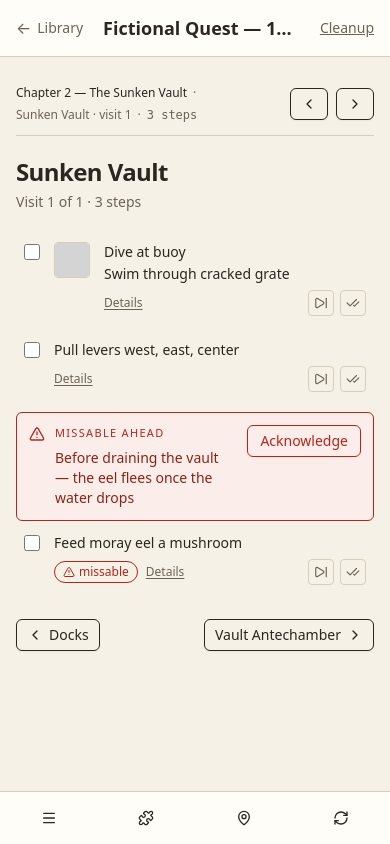
Test: jumps land on the visit that holds the step › Where am I comes back to the pointer's visit from anywhere
Check: the text "Dive at buoy" is shown, box [104,242,186,262]
// The pointer is still on the fresh slot's first step, two chapters back.
Click the button titled "Where am I". click: (244, 818)
box: [226,800,262,836]
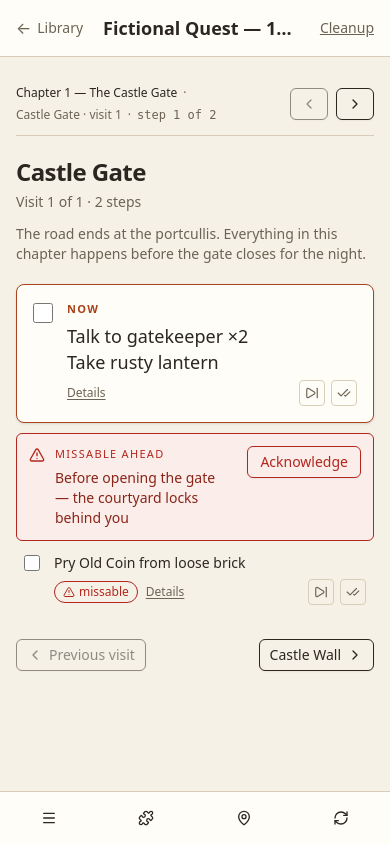
Check: the text "Talk to gatekeeper ×2" is shown, box [67,324,248,348]
